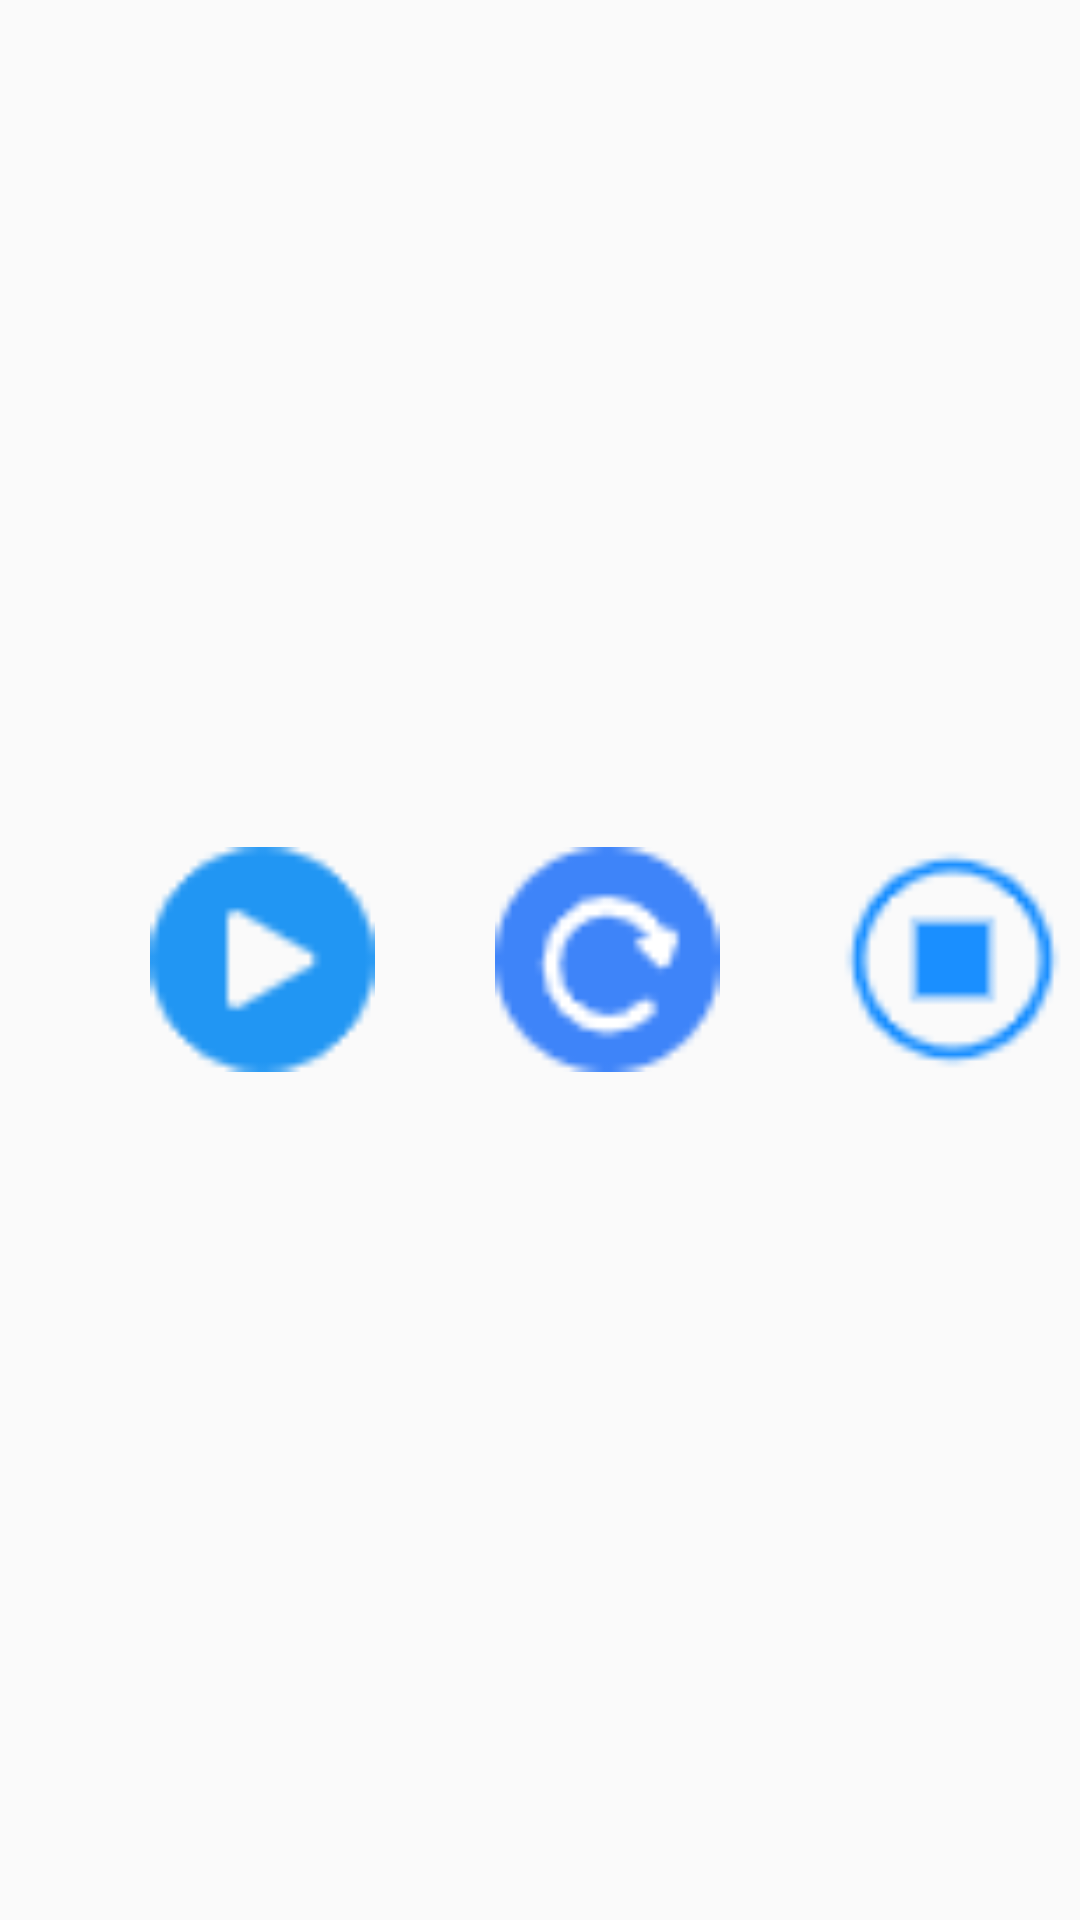

Point at icon controls on the screen. Image size 1080px x 1920px, points as [x,y].
restart: [607,959]
start: [262,959]
stop: [952,959]
